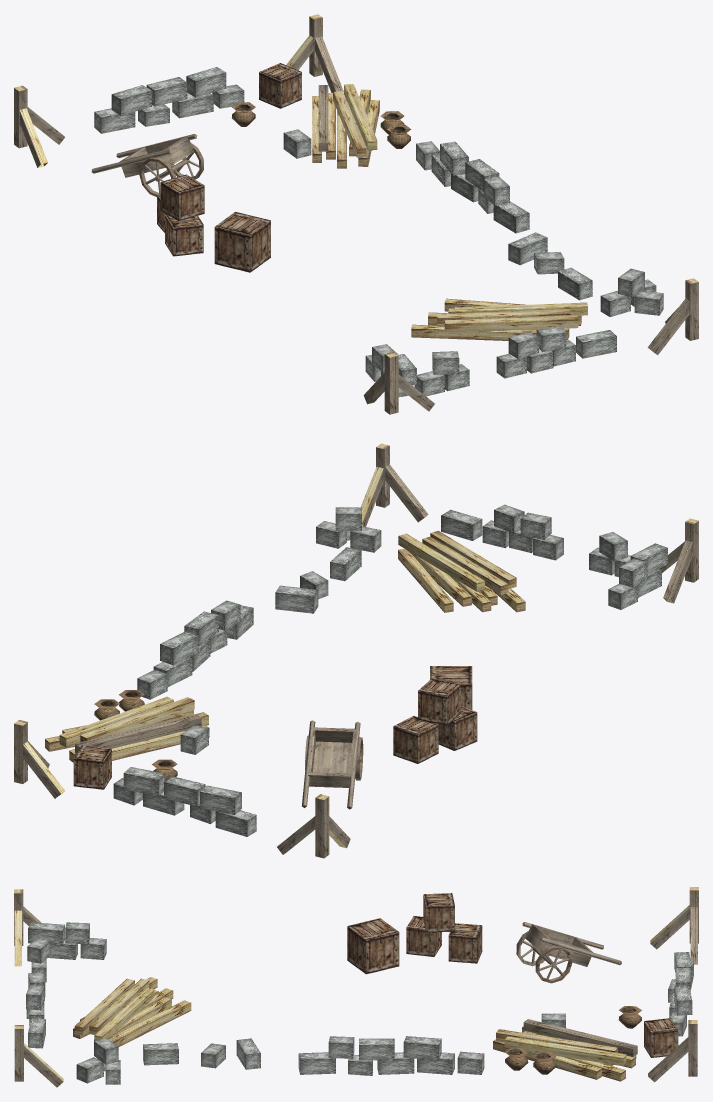
File: found_3x6_a.dae
3 renders of one model, top to bottom at view 1: azimuth 30°, elevation 25°; view 2: azimuth 150°, elevation 25°; view 3: azimuth 270°, elevation 25°, orthographic. The views are drawn at different scales.
Visible parts, largest first — view 1: found_3x6_a; view 2: found_3x6_a; view 3: found_3x6_a.
Part boxes in pixels (box(x1,y1,x2,y2)): found_3x6_a: box(14, 14, 698, 414); found_3x6_a: box(14, 443, 698, 858); found_3x6_a: box(14, 887, 698, 1087).
Bounding box in the file's own units: 15.76 × 3 × 31.5.
